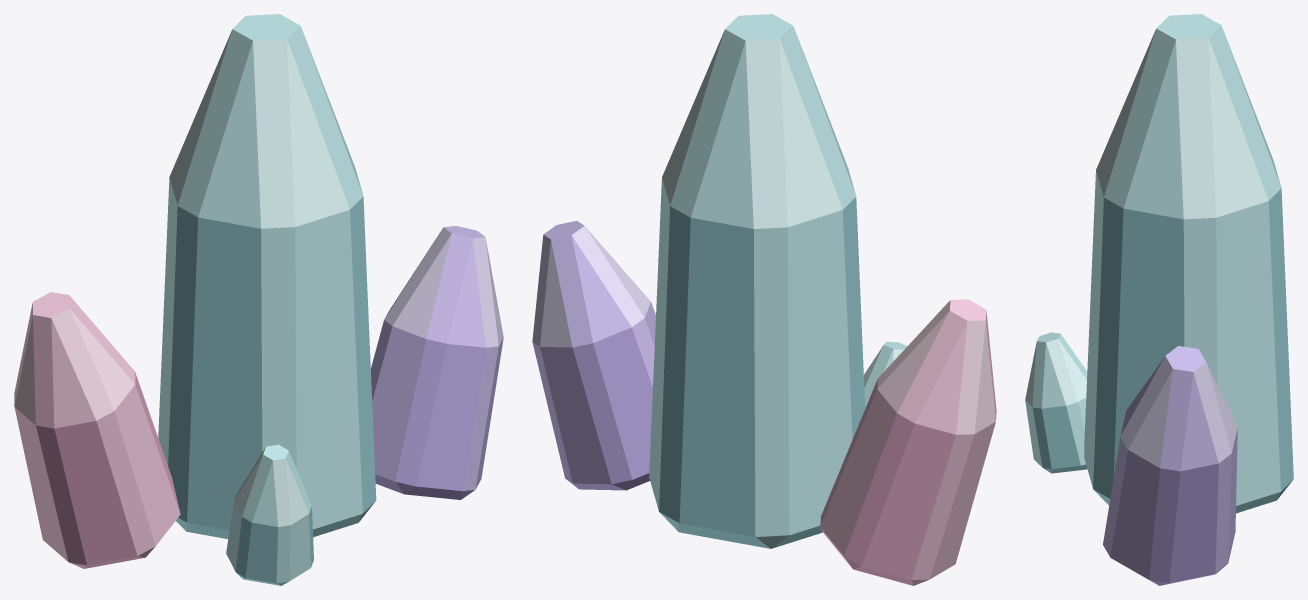
The model's file is crystal1.glb.
3 views of the same model, side by side, from view 1: azimuth 30°, elevation 25°; view 2: azimuth 150°, elevation 25°; view 3: azimuth 270°, elevation 25° (orthographic). The views are drawn at different scales.
Visible parts, largest first — view 1: c1_main, c1_left, c1_right, c1_nub; view 2: c1_main, c1_left, c1_right, c1_nub; view 3: c1_main, c1_right, c1_nub.
Part boxes in pixels (bbox=[...]): c1_main: bbox=[158, 14, 376, 538]; c1_left: bbox=[14, 292, 180, 568]; c1_right: bbox=[370, 226, 503, 499]; c1_nub: bbox=[226, 444, 313, 585]; c1_main: bbox=[649, 14, 865, 548]; c1_left: bbox=[820, 299, 996, 585]; c1_right: bbox=[532, 220, 655, 490]; c1_nub: bbox=[864, 341, 907, 407]; c1_main: bbox=[1084, 14, 1293, 513]; c1_right: bbox=[1103, 346, 1237, 585]; c1_nub: bbox=[1025, 332, 1087, 473].
Size of the model in its own units: 0.9904 by 1.02 by 0.5261.
